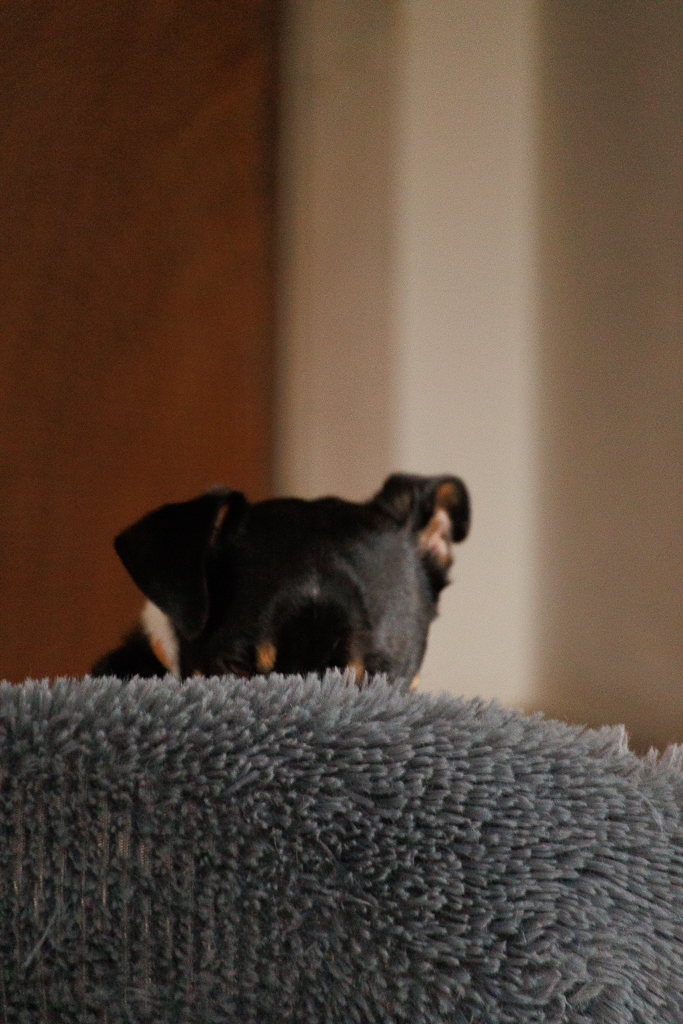Dog: (81, 462, 478, 704)
